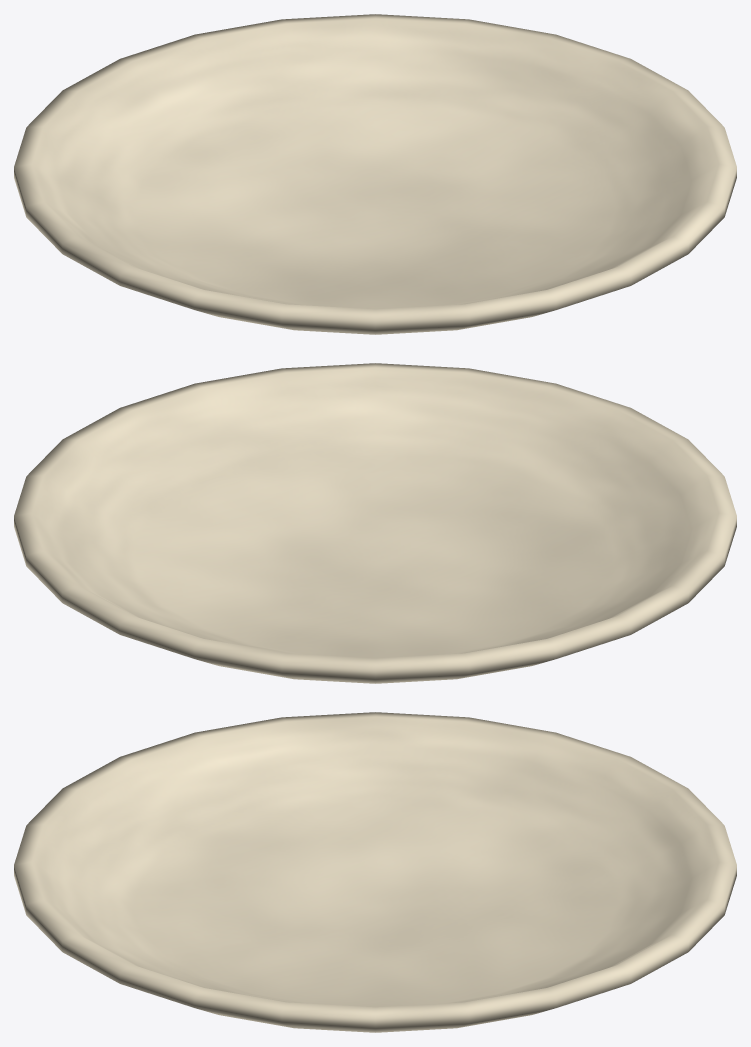
Rendered from serving_plate.fbx.
3 views of the same model, one above another, from view 1: azimuth 30°, elevation 25°; view 2: azimuth 150°, elevation 25°; view 3: azimuth 270°, elevation 25° (orthographic).
Parts seen in each view (by area): view 1: serving_plate; view 2: serving_plate; view 3: serving_plate.
Part boxes in pixels (x1,y1,x2,y2): serving_plate: (14,14,736,334); serving_plate: (14,363,736,683); serving_plate: (14,712,736,1032).
Size of the model in its own units: 0.24 by 0.025 by 0.24.
Materials: 1 (1 with a texture image).
